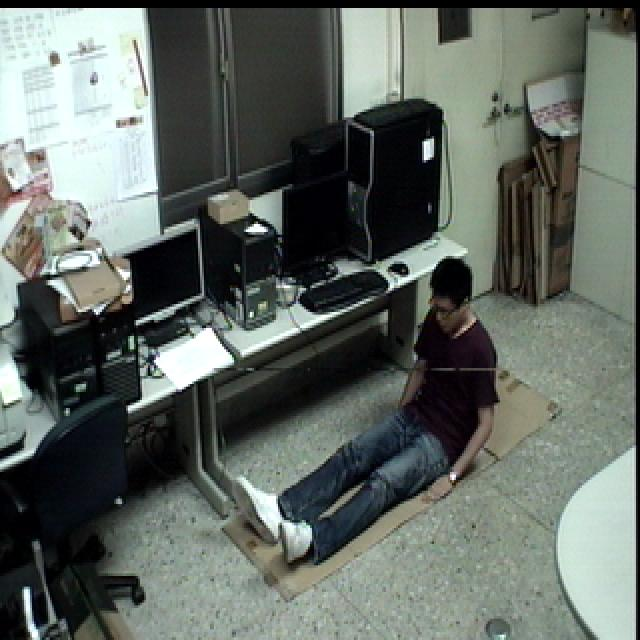sit: (220, 244, 513, 571)
